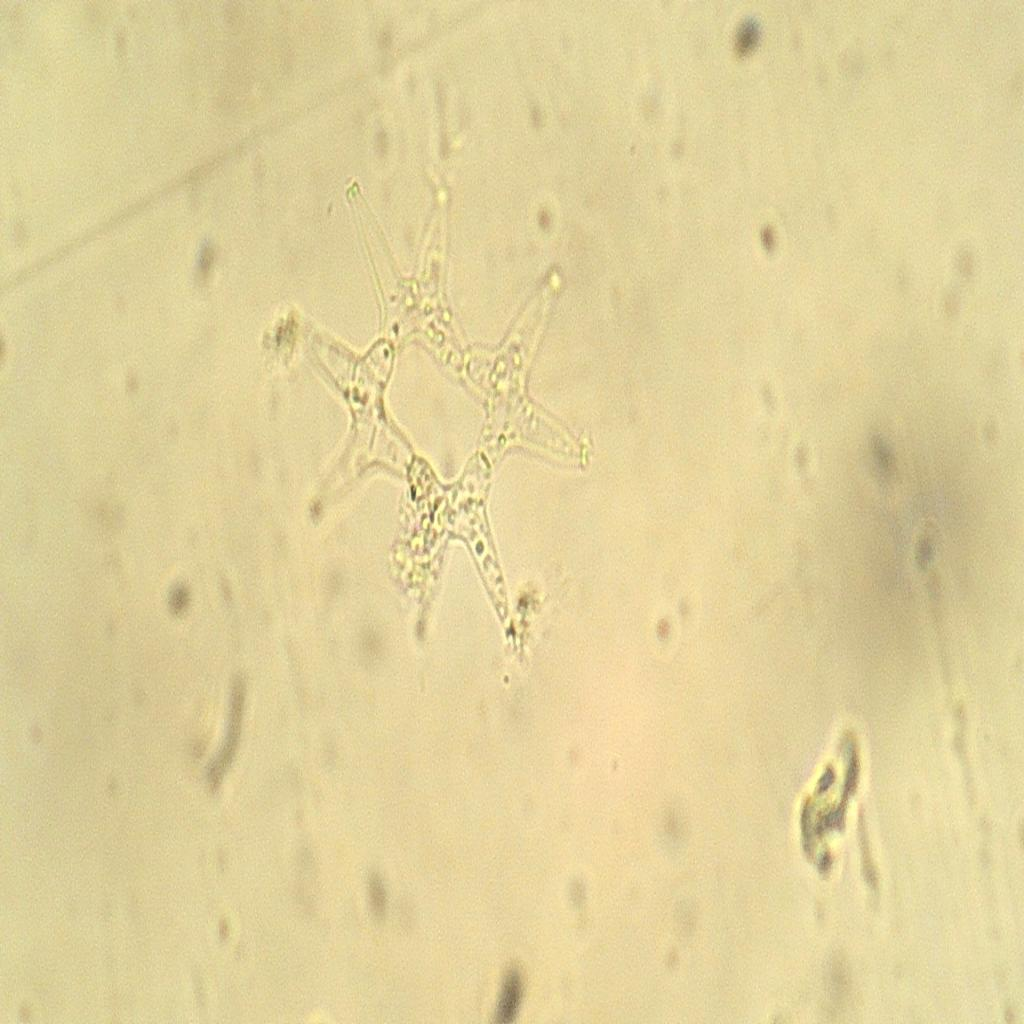Pediastrum_75TH: (252, 155, 618, 663)
